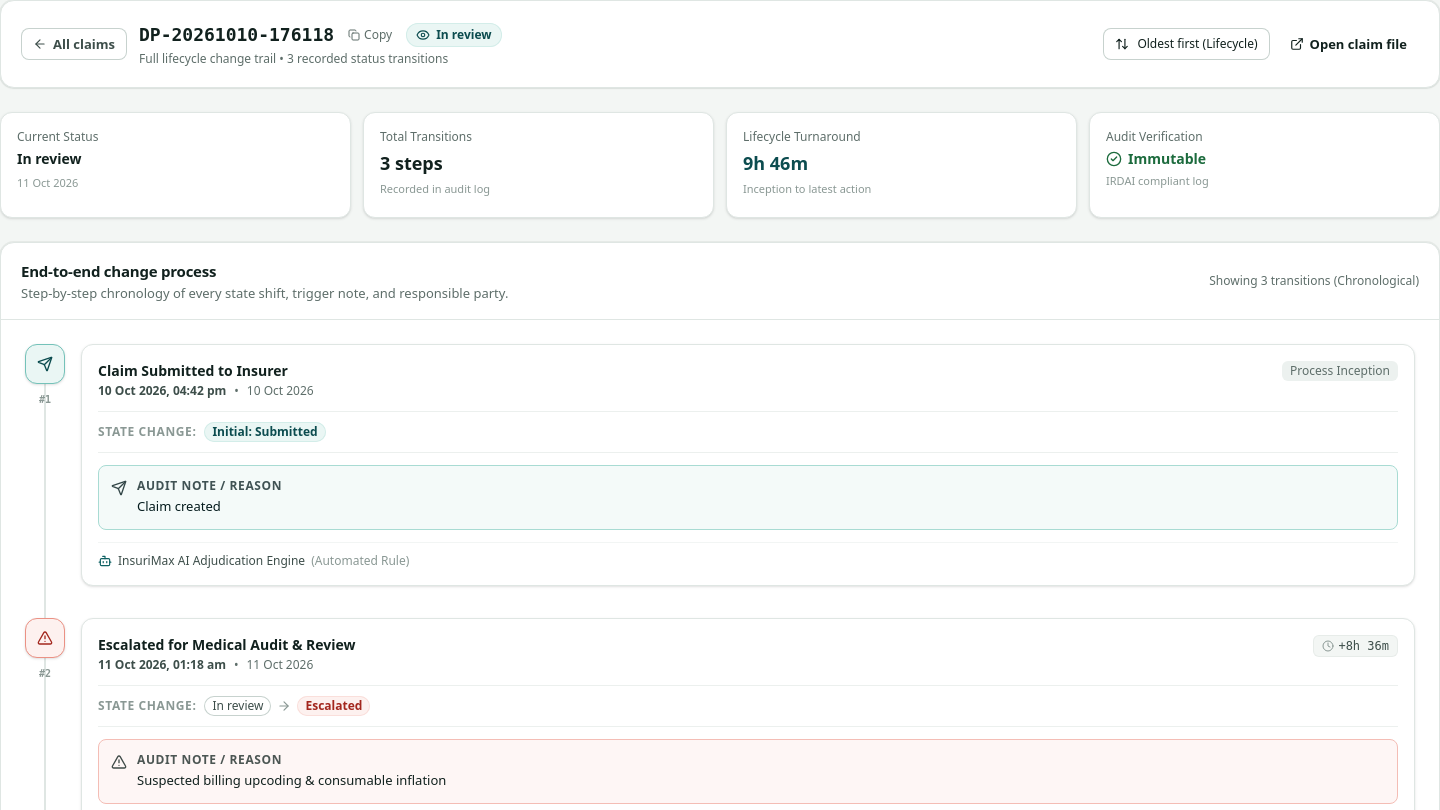
Scenario: SingleClaimProcessView › toggles ordering between chronological and reverse
Click the button titled "Toggle chronological vs reverse chronological order".
click(1186, 44)  # box [1103,28,1270,60]
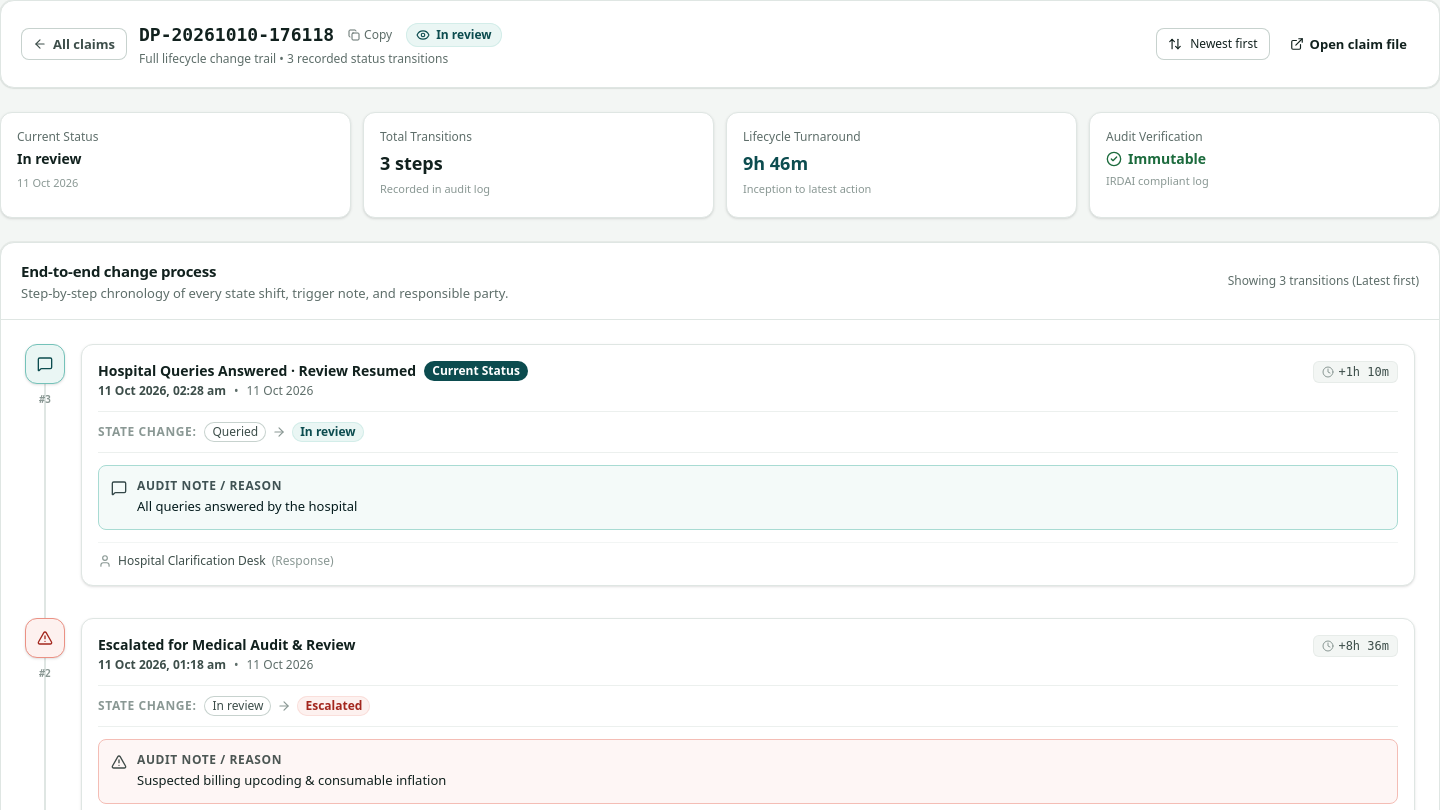
Expected: the button titled "Toggle chronological vs reverse chronological order" reads "Newest first", [1156,28,1270,60]
